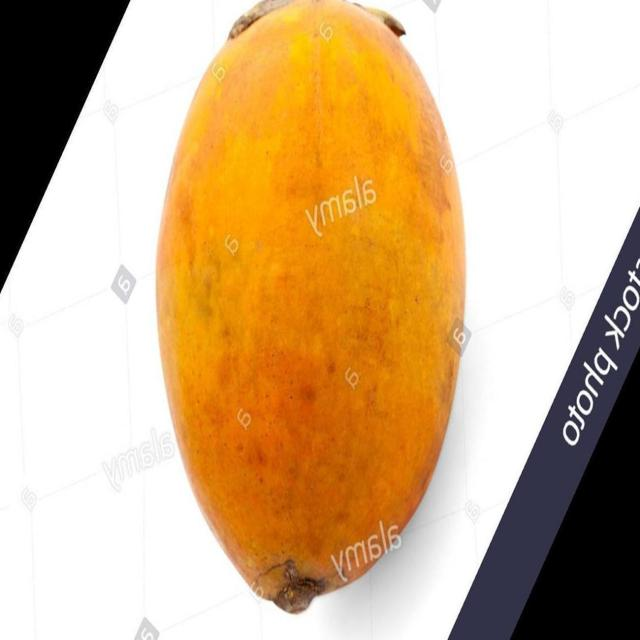good: (153, 0, 468, 617)
